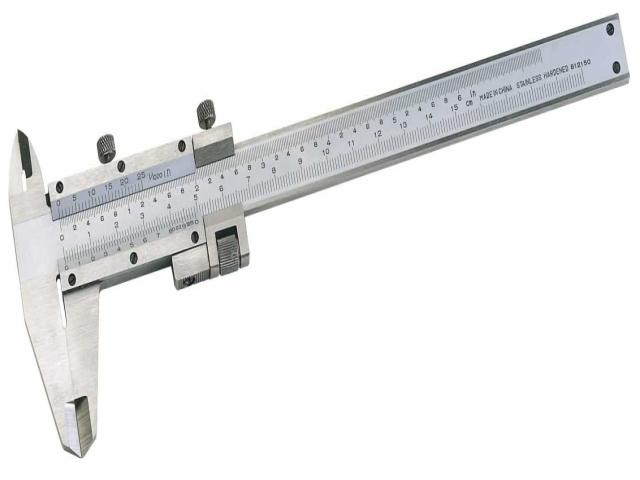Calipers: (9, 15, 629, 458)
